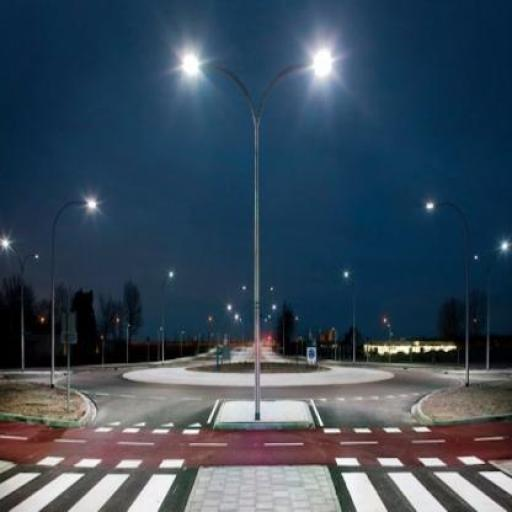street light: (184, 49, 332, 418), (50, 200, 98, 386), (426, 202, 469, 387), (1, 239, 25, 375), (488, 243, 508, 374), (160, 271, 173, 362), (344, 272, 356, 361), (273, 305, 286, 356)
